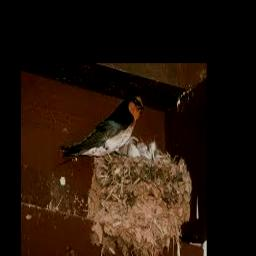Swallow: (61, 93, 144, 159)
